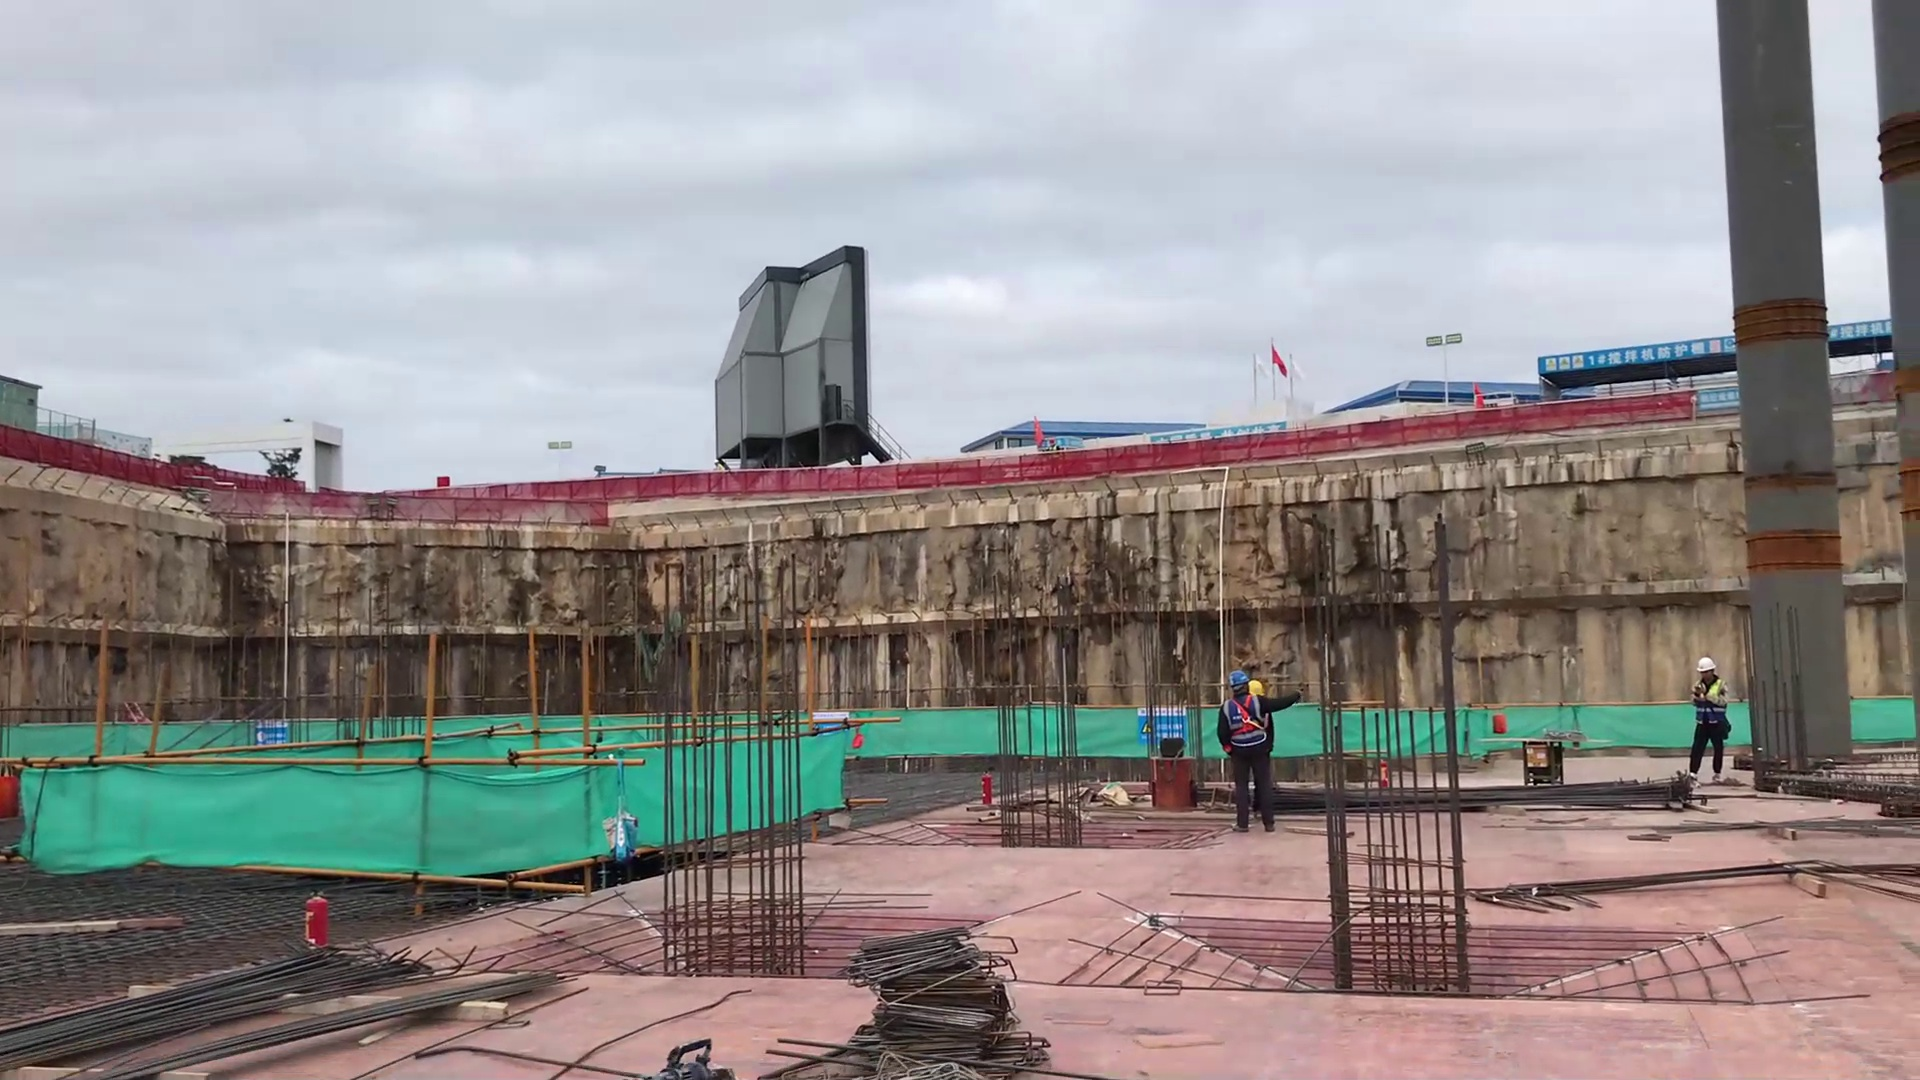helmet: (1218, 669, 1255, 698), (1691, 653, 1723, 682)
person: (1215, 666, 1306, 837), (1678, 633, 1740, 795)
vest: (1223, 698, 1271, 758), (1684, 681, 1733, 740)
